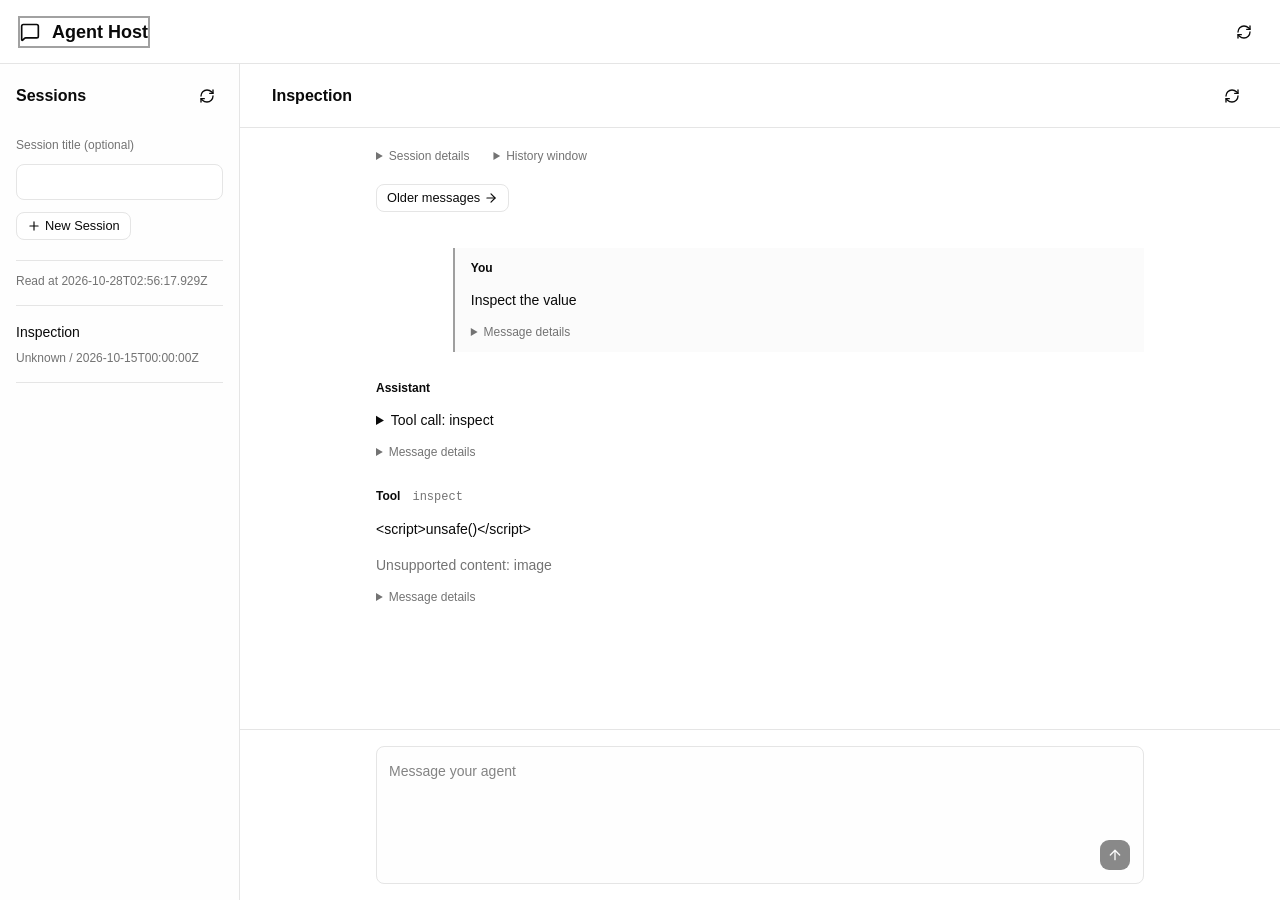
Test: Agent Host Session browsing › keeps the current history window and timestamp after refresh failure and retries without replay
Check: the list named "Session history" is shown, box x1=376 y1=228 x2=1144 y2=625
Click the button named "Refresh Session" at point(1232, 96), box x1=1216 y1=80 x2=1248 y2=112
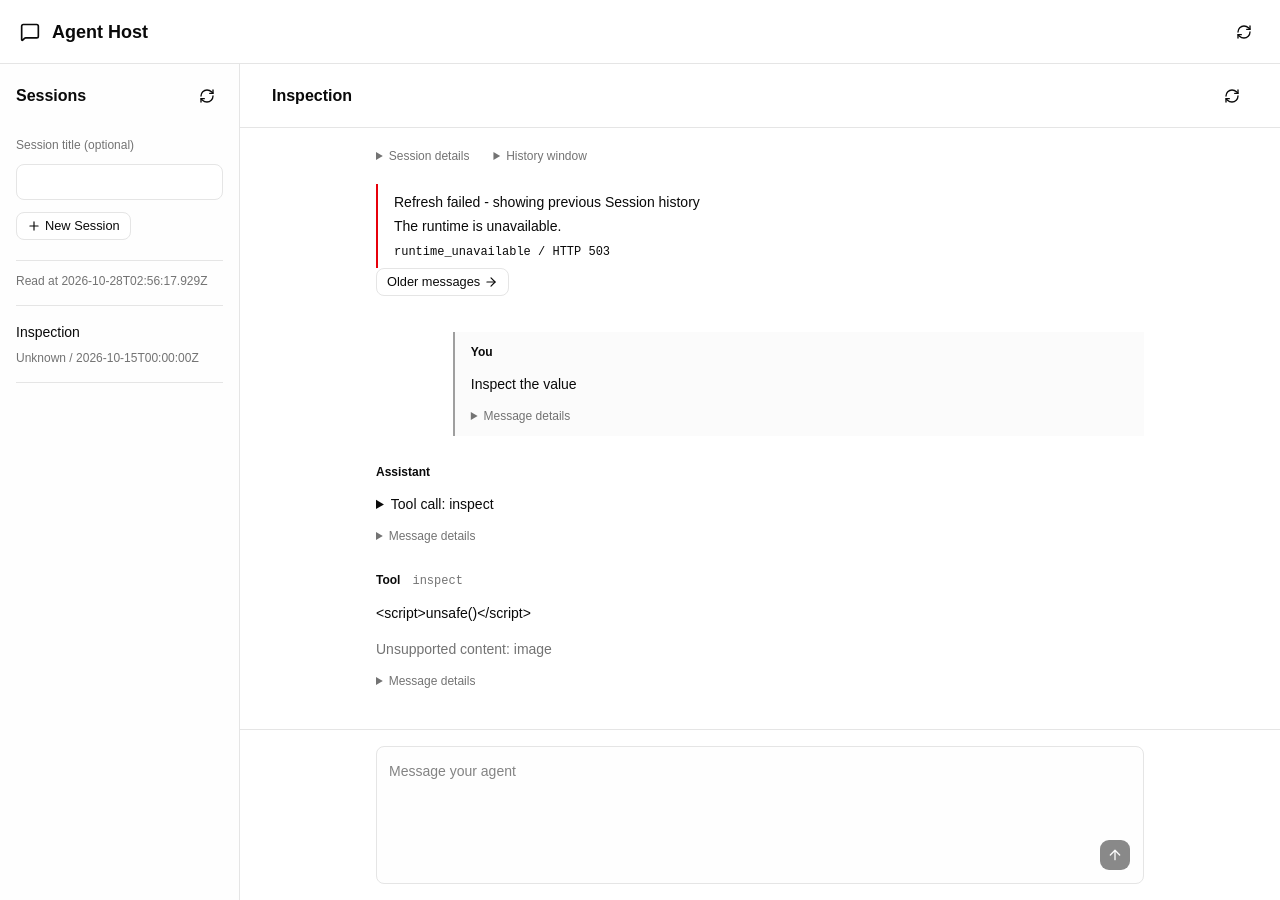
Check: the text "Inspect the value" is shown, box x1=471 y1=376 x2=577 y2=392
Check: the text "Refresh failed - showing previous Session history" is shown, box x1=394 y1=194 x2=700 y2=210
Check: the text "runtime_unavailable / HTTP 503" is shown, box x1=394 y1=245 x2=610 y2=259
Click the button named "Refresh Session" at point(1232, 96), box x1=1216 y1=80 x2=1248 y2=112
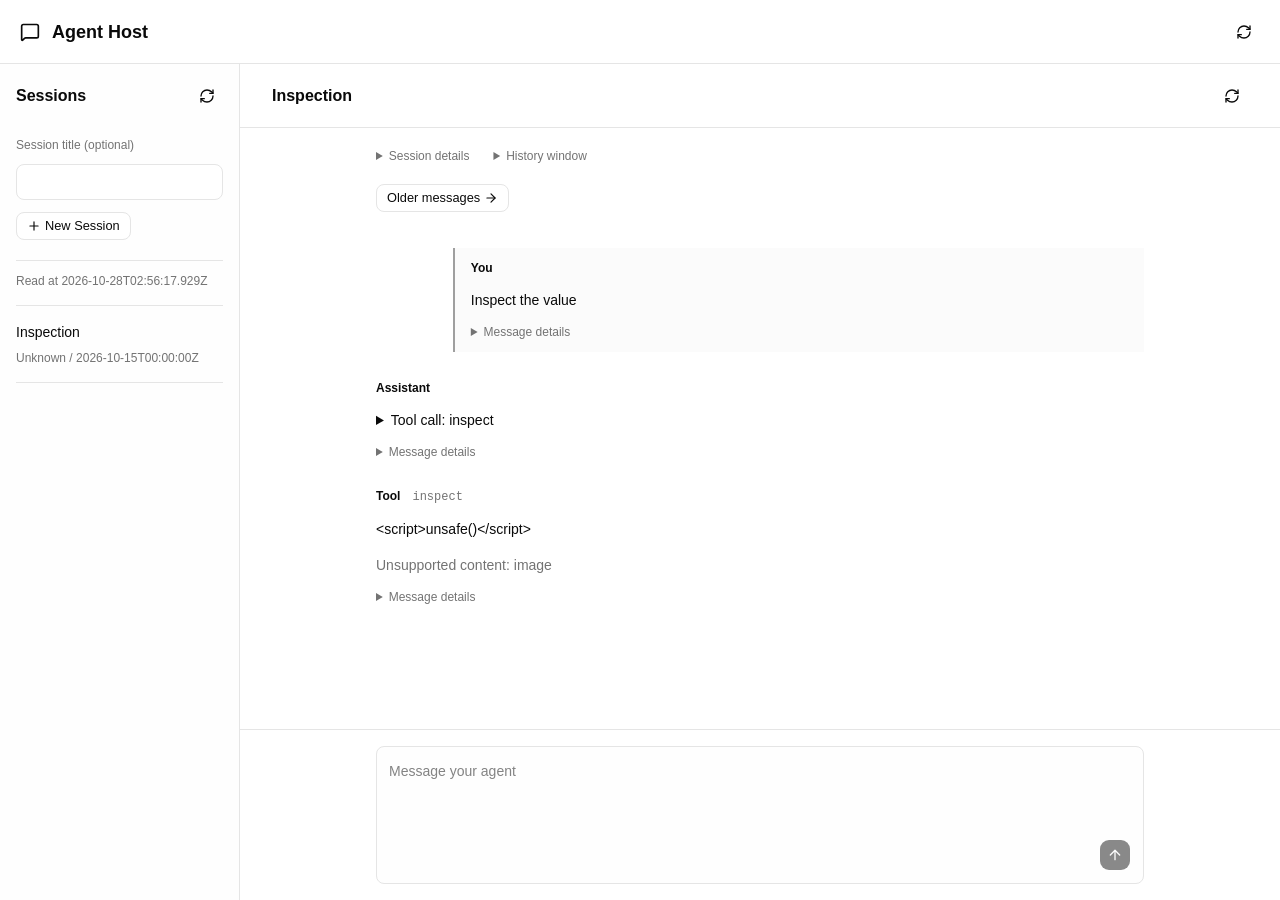
Check: the message is gone
